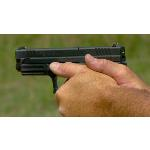Pistol: (14, 39, 128, 100)
